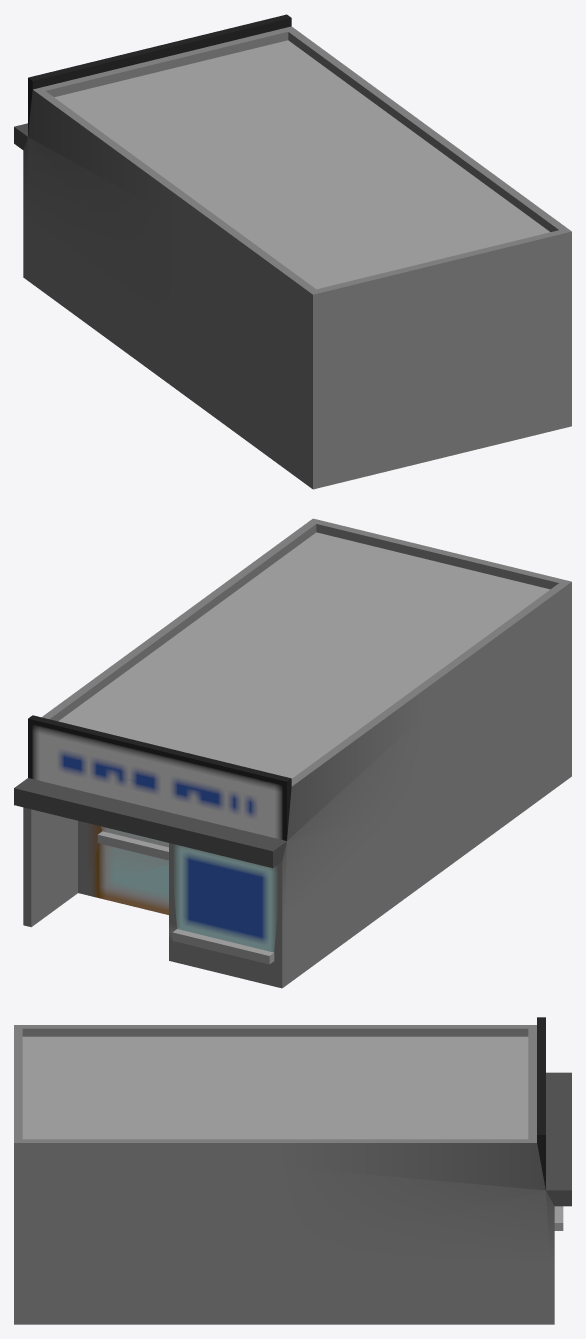
Rendered from obj_store07.fbx.
The picture shows the model from 3 angles, top to bottom: view 1: azimuth 30°, elevation 25°; view 2: azimuth 150°, elevation 25°; view 3: azimuth 270°, elevation 25°; orthographic projection. The views are drawn at different scales.
Parts seen in each view (by area): view 1: obj_store07; view 2: obj_store07; view 3: obj_store07.
Boxes of the visible parts, left/top/right/bottom form: obj_store07: left=14, top=14, right=571, bottom=489; obj_store07: left=14, top=518, right=571, bottom=988; obj_store07: left=14, top=1017, right=571, bottom=1324.
Size of the model in its own units: 3.2 by 6.4 by 2.4.
1 material, 1 textured.
